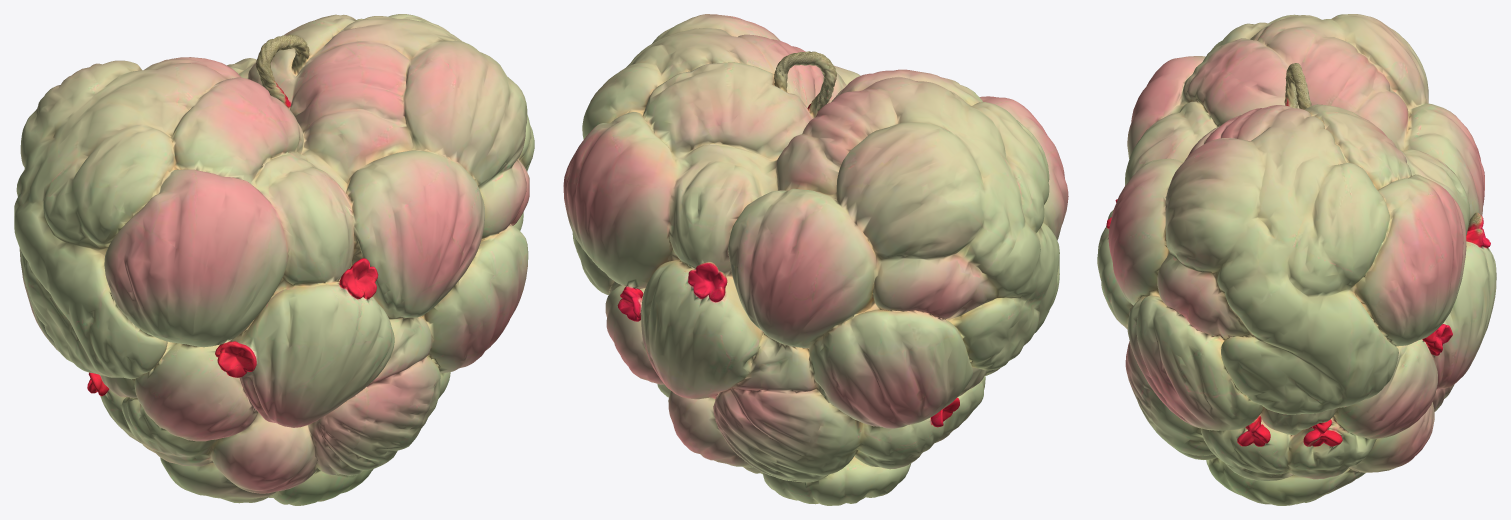
The model's file is shellGarland.glb.
3 views of the same model, side by side, from view 1: azimuth 30°, elevation 25°; view 2: azimuth 150°, elevation 25°; view 3: azimuth 270°, elevation 25° (orthographic). The views are drawn at different scales.
Size of the model in its own units: 1 by 0.9023 by 0.7707.
Materials: 1 (1 with a texture image).
